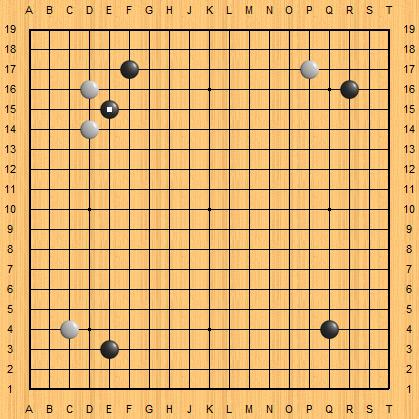black: (99, 339, 119, 359), (99, 99, 119, 119), (119, 59, 139, 79), (319, 319, 339, 339), (339, 79, 359, 99)
white: (60, 314, 82, 336), (79, 77, 101, 99), (79, 115, 101, 137), (300, 56, 322, 78)
